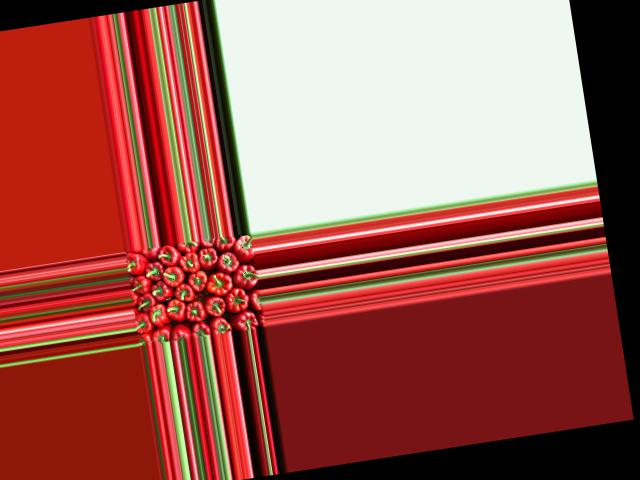bell_pepper: (126, 250, 148, 273)
